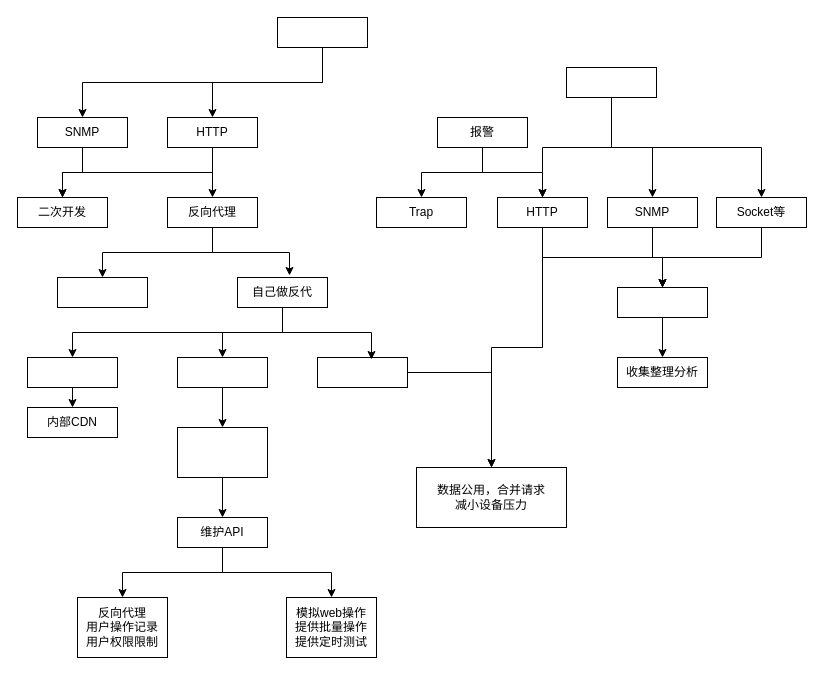
Image size: 824x675. Some labels were removed from this diagram. Here are the shapes that lost their labels. From the top down, the box of each, then its label:
(276, 16, 368, 48): 管理
(566, 66, 656, 98): 监控
(56, 276, 148, 308): 第三方反代
(616, 286, 708, 318): 收据收集
(26, 356, 118, 388): 资源
(176, 356, 268, 388): 整理请求
(316, 356, 408, 388): API数据请求
(176, 426, 268, 478): 整理所有API，请求地址，参数，功能
